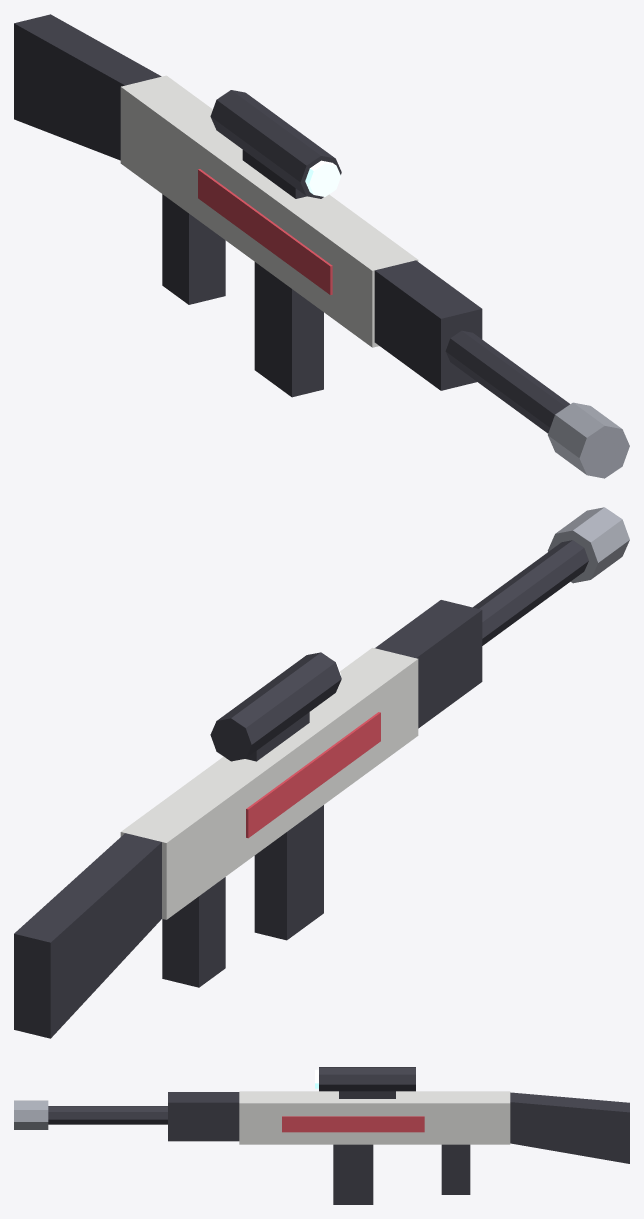
The model's file is HeroRifle.fbx.
3 views of the same model, one above another, from view 1: azimuth 30°, elevation 25°; view 2: azimuth 150°, elevation 25°; view 3: azimuth 270°, elevation 25° (orthographic). The views are drawn at different scales.
Visible parts, largest first — view 1: HeroRifle; view 2: HeroRifle; view 3: HeroRifle.
Part boxes in pixels (x1,y1,x2,y2): HeroRifle: [14, 14, 629, 478]; HeroRifle: [14, 507, 629, 1038]; HeroRifle: [14, 1067, 629, 1204].
Bounding box in the file's own units: 0.0715 × 0.3348 × 1.4.
